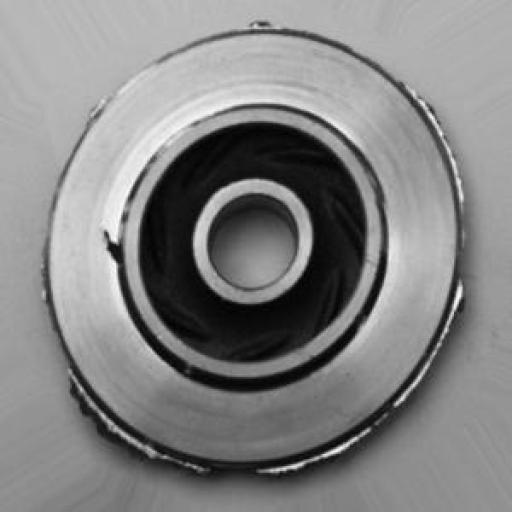defect: (32, 25, 474, 485)
